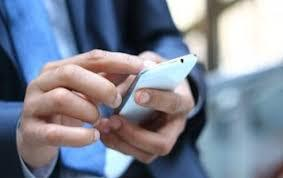Hand: (17, 52, 140, 160), (100, 42, 194, 162)
Smartphone: (108, 52, 195, 126)
